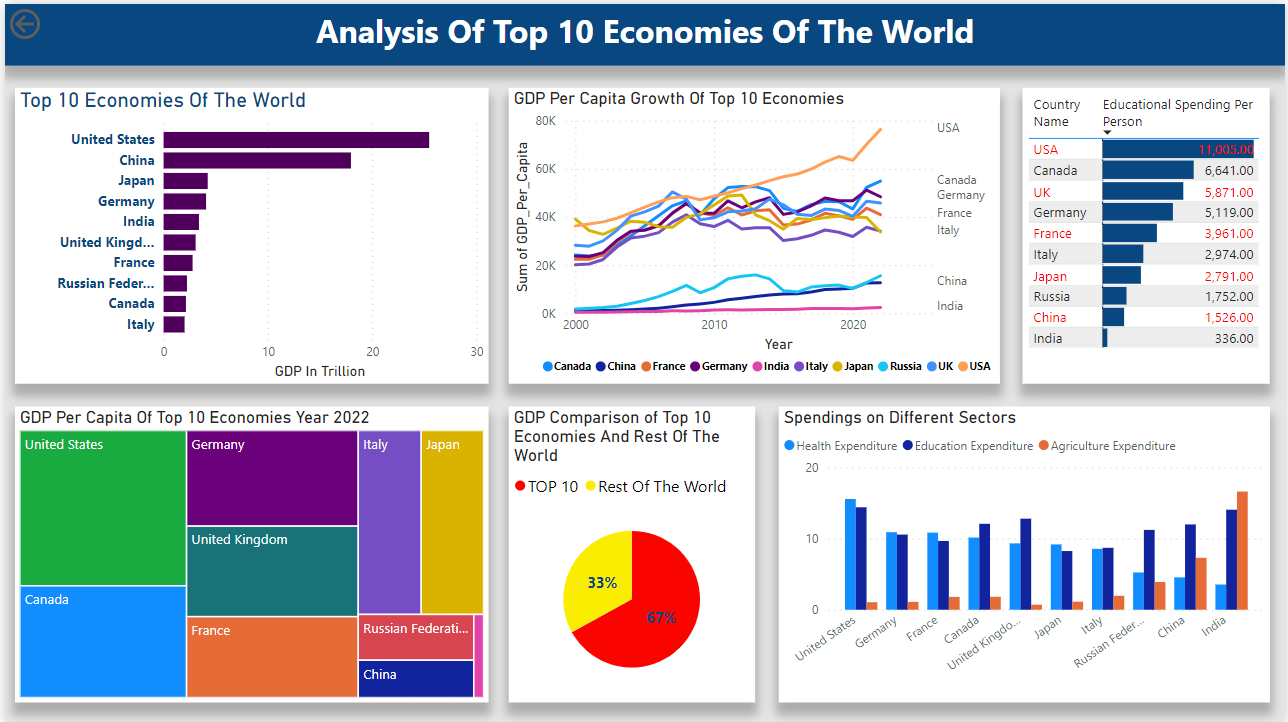

This screenshot's page, from the dashboard's own definition file:
{"tool":"powerbi","page":{"name":"Page 1","canvas":[1280,720],"ordinal":0},"visuals":[{"type":"textbox","box":[0,0,1280,61.2],"z":0},{"type":"barChart","title":"Top 10 Economies Of The World","fields":{"Category":["Top 10 Econo.Country Name"],"Y":["Sum(Top 10 Econo.GDP In Trillon)"]},"box":[10,83.8,473.8,296.2],"z":1000},{"type":"treemap","title":"GDP Per Capita Of Top 10 Economies Year 2022","fields":{"Group":["Query2.Country Name"],"Values":["Sum(Query2.GDP Per Capita)"]},"box":[10,402.5,473.8,296.2],"z":2000},{"type":"lineChart","title":"GDP Per Capita Growth Of Top 10 Economies","fields":{"Series":["Query1.Country_Name"],"Category":["Query1.Year"],"Y":["Sum(Query1.GDP_Per_Capita)"]},"box":[503.8,83.8,491.2,296.2],"z":3000},{"type":"pieChart","title":"GDP Comparison of Top 10 Economies And Rest Of The World","fields":{"Category":["PIE.Country"],"Y":["Sum(PIE.GDP)"]},"box":[503.8,402.5,246.2,296.2],"z":4000},{"type":"clusteredColumnChart","title":"Spendings on Different Sectors","fields":{"Category":["Query3.Country_Name"],"Y":["Sum(Query3.Health_Expenditure_GDP)","Sum(Query3.Education_Expenditure_GDP)","Sum(Query3.Agriculture_GDP)"]},"box":[773.8,402.5,491.2,296.2],"z":5000},{"type":"actionButton","box":[0,0,100,40],"z":6000},{"type":"tableEx","fields":{"Values":["Query4.Country_Name","Sum(Query4.Educational Spending Per Person)"]},"box":[1017.5,83.8,247.5,296.2],"z":7000}]}

Visuals, with their boxes in screenshot pixels (x1, y1, x2, y2), scaled from the page's 1280x720 canvas onto the 1288x722 screenshot:
textbox: (0, 0, 1287, 61)
"Top 10 Economies Of The World" barChart: (10, 84, 487, 381)
"GDP Per Capita Of Top 10 Economies Year 2022" treemap: (10, 404, 487, 701)
"GDP Per Capita Growth Of Top 10 Economies" lineChart: (507, 84, 1001, 381)
"GDP Comparison of Top 10 Economies And Rest Of The World" pieChart: (507, 404, 755, 701)
"Spendings on Different Sectors" clusteredColumnChart: (779, 404, 1273, 701)
actionButton: (0, 0, 101, 40)
tableEx - Query4.Country_Name x Sum(Query4.Educational Spending Per Person): (1024, 84, 1273, 381)
